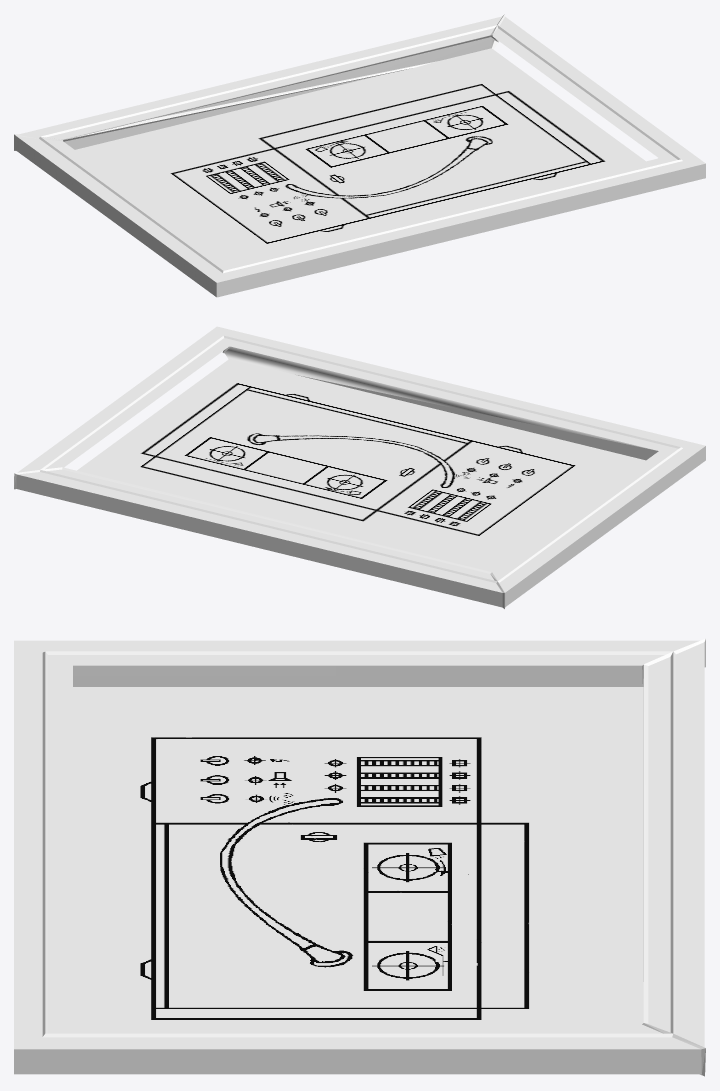
File: Picture2.FBX
3 views of the same model, one above another, from view 1: azimuth 30°, elevation 25°; view 2: azimuth 150°, elevation 25°; view 3: azimuth 270°, elevation 25° (orthographic). The views are drawn at different scales.
Visible parts, largest first — view 1: image, rama; view 2: image, rama; view 3: image, rama.
Part boxes in pixels (left/top/right/bottom): image: left=75, top=48, right=645, bottom=262; rama: left=14, top=14, right=705, bottom=297; image: left=77, top=359, right=645, bottom=572; rama: left=14, top=326, right=705, bottom=608; image: left=73, top=687, right=643, bottom=1024; rama: left=14, top=638, right=705, bottom=1076.
Bounding box in the file's own units: 703 × 24 × 501.
